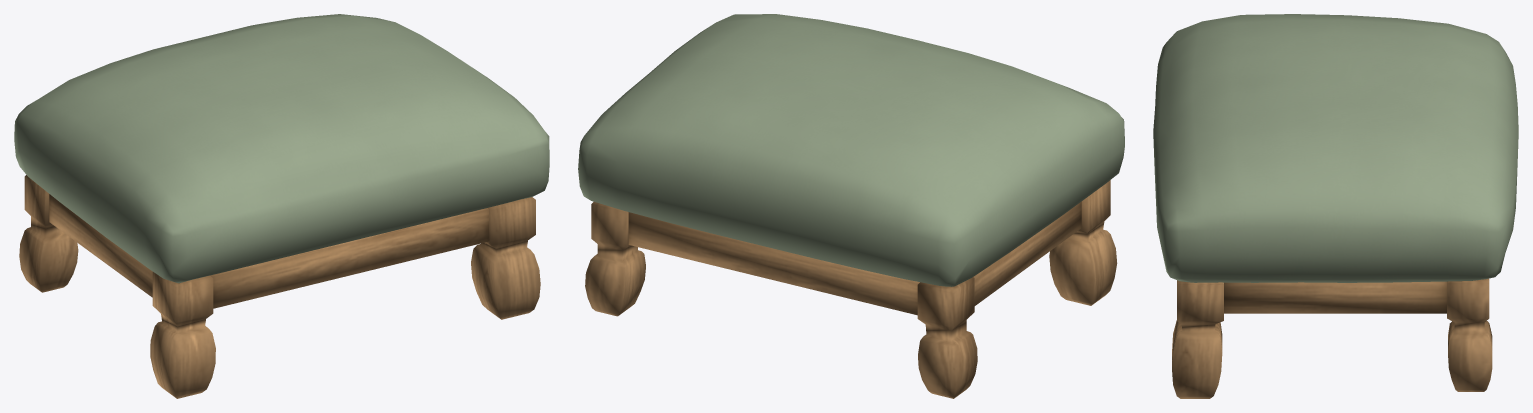
The model's file is footstool.glb.
3 renders of one model, left to right at view 1: azimuth 30°, elevation 25°; view 2: azimuth 150°, elevation 25°; view 3: azimuth 270°, elevation 25°, orthographic. The views are drawn at different scales.
Parts seen in each view (by area): view 1: footstool; view 2: footstool; view 3: footstool.
Part boxes in pixels (x1=…): footstool: x1=14, y1=14, x2=549, y2=398; footstool: x1=578, y1=14, x2=1124, y2=398; footstool: x1=1153, y1=14, x2=1518, y2=398.
Bounding box in the file's own units: 0.9688 × 0.5312 × 0.7559.
Materials: 1 (1 with a texture image).
